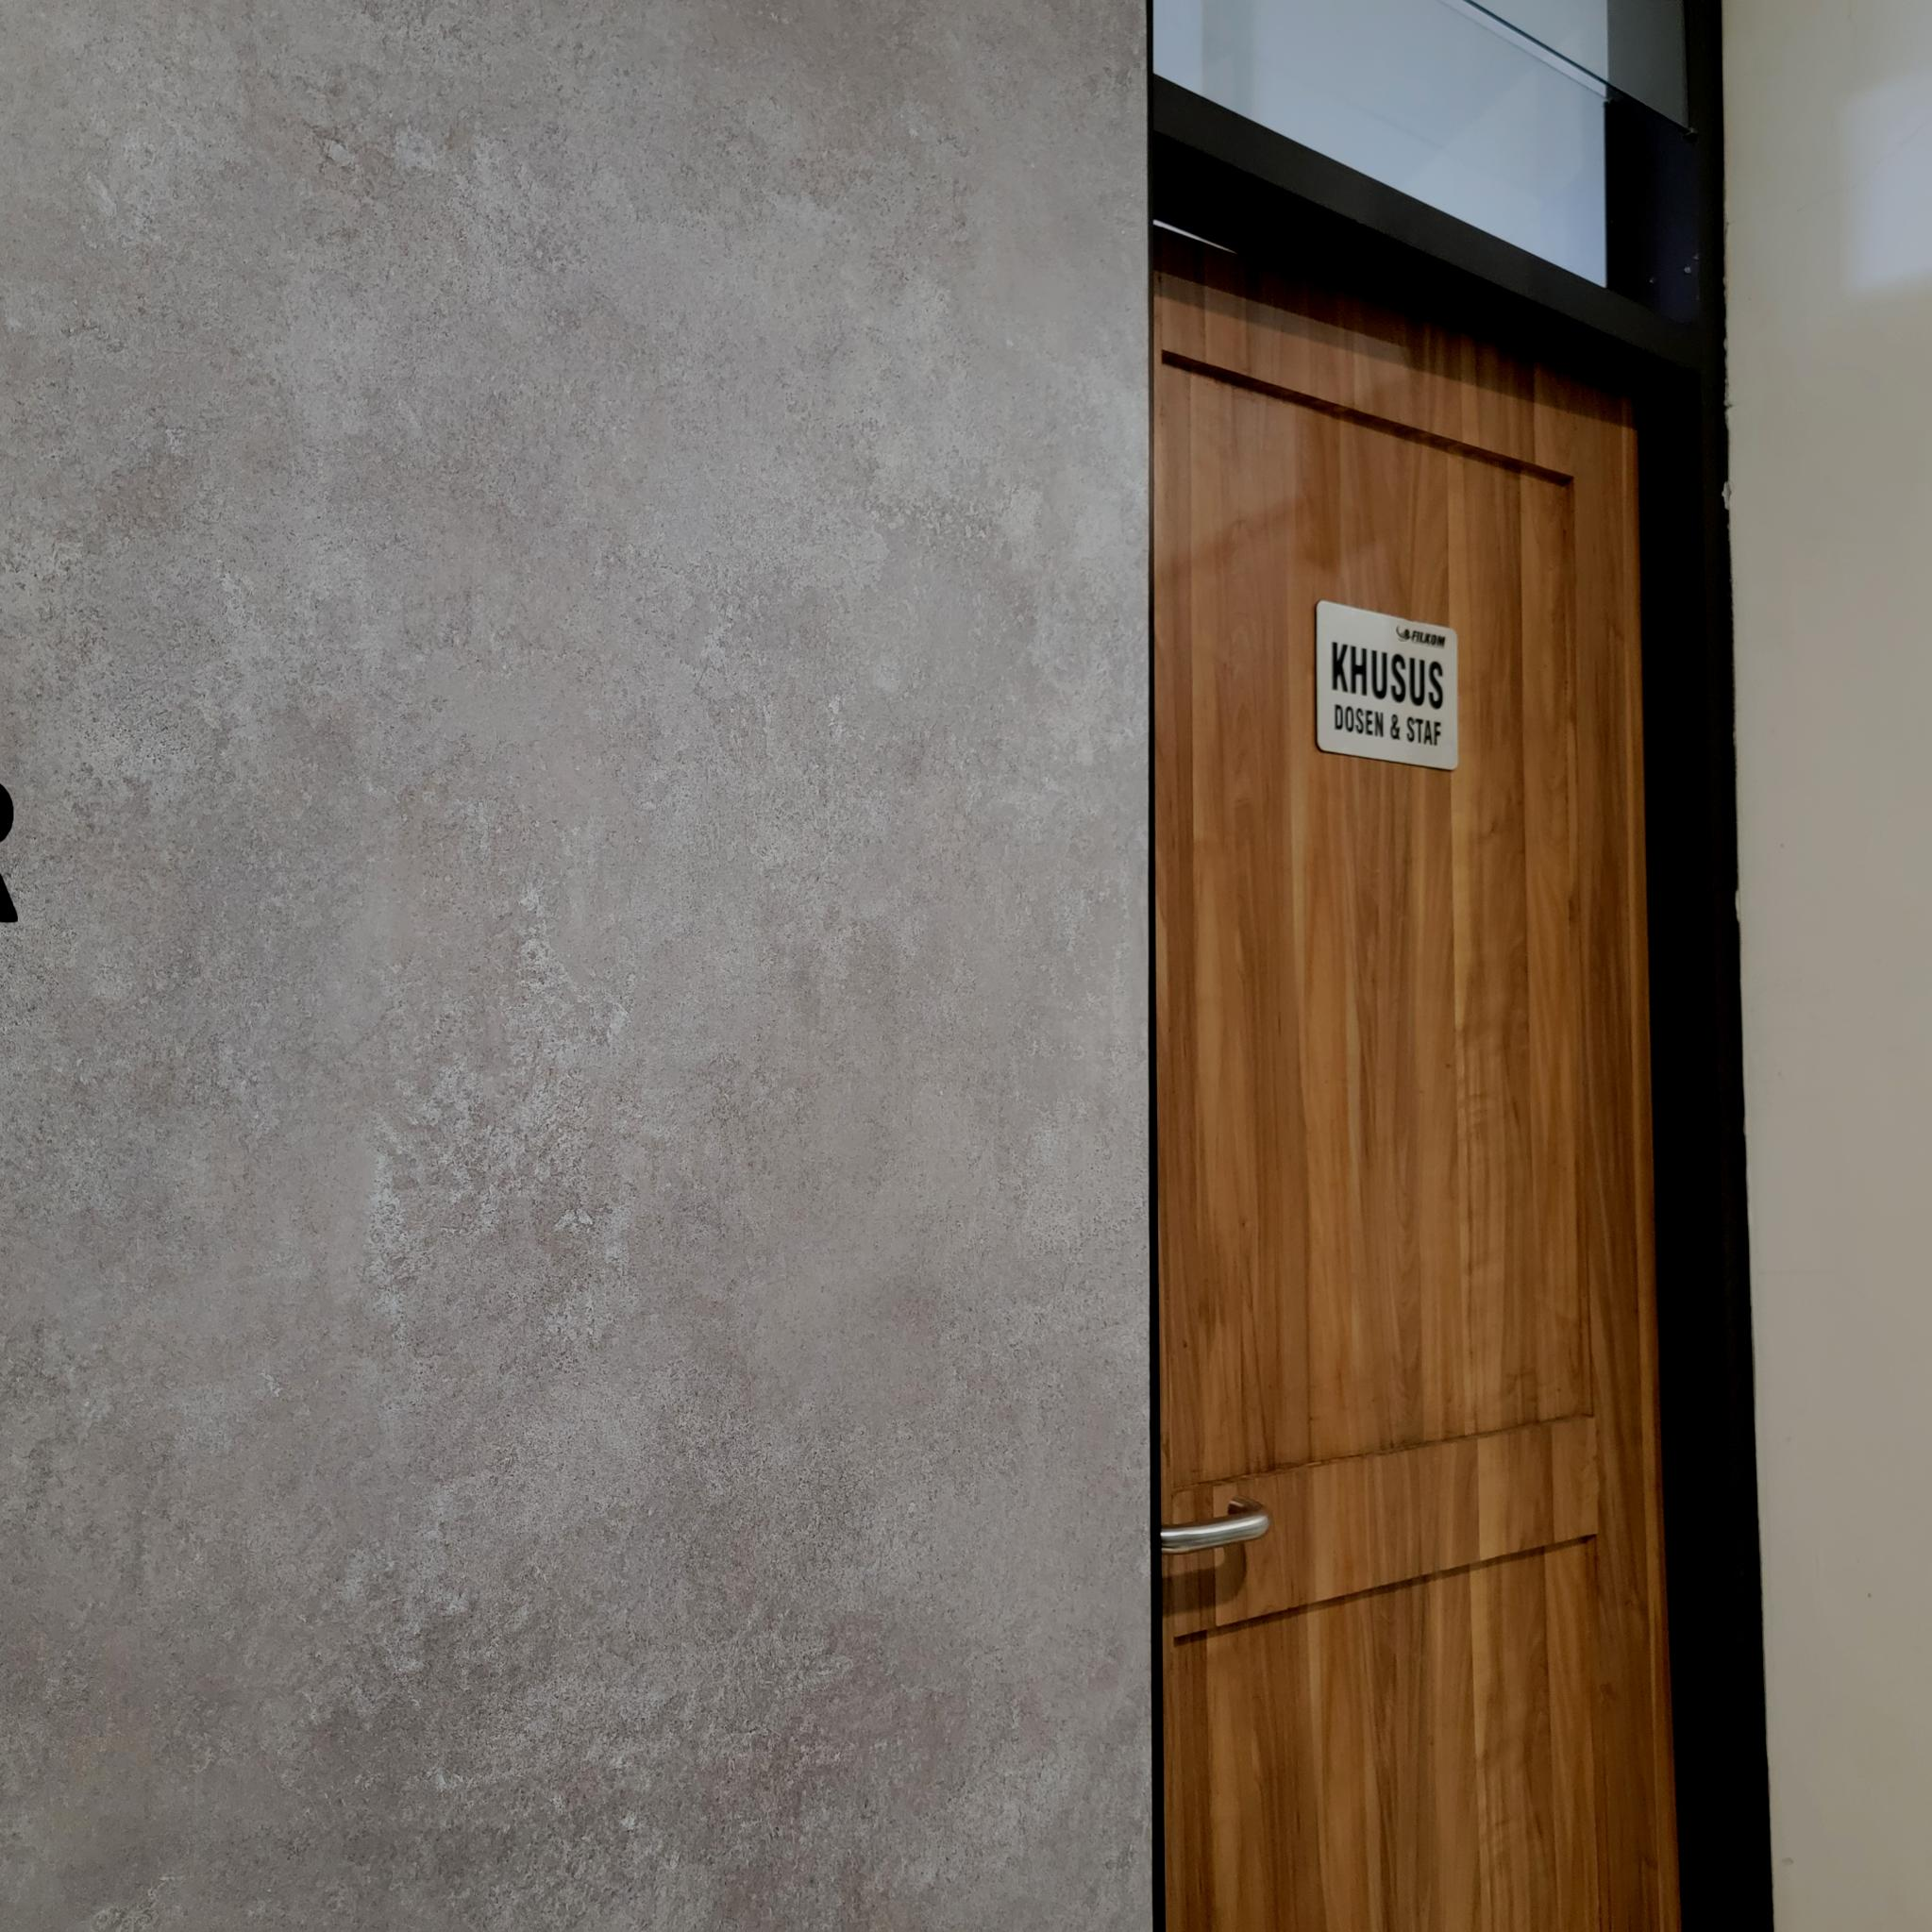plate: (1316, 594, 1460, 773)
